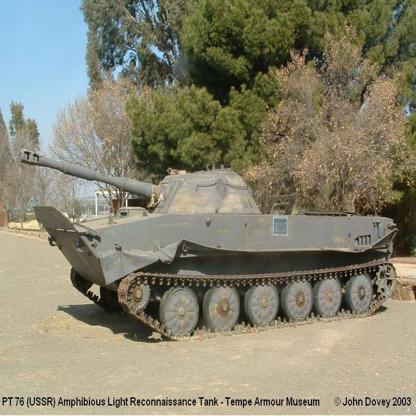Tank: (15, 146, 403, 345)
